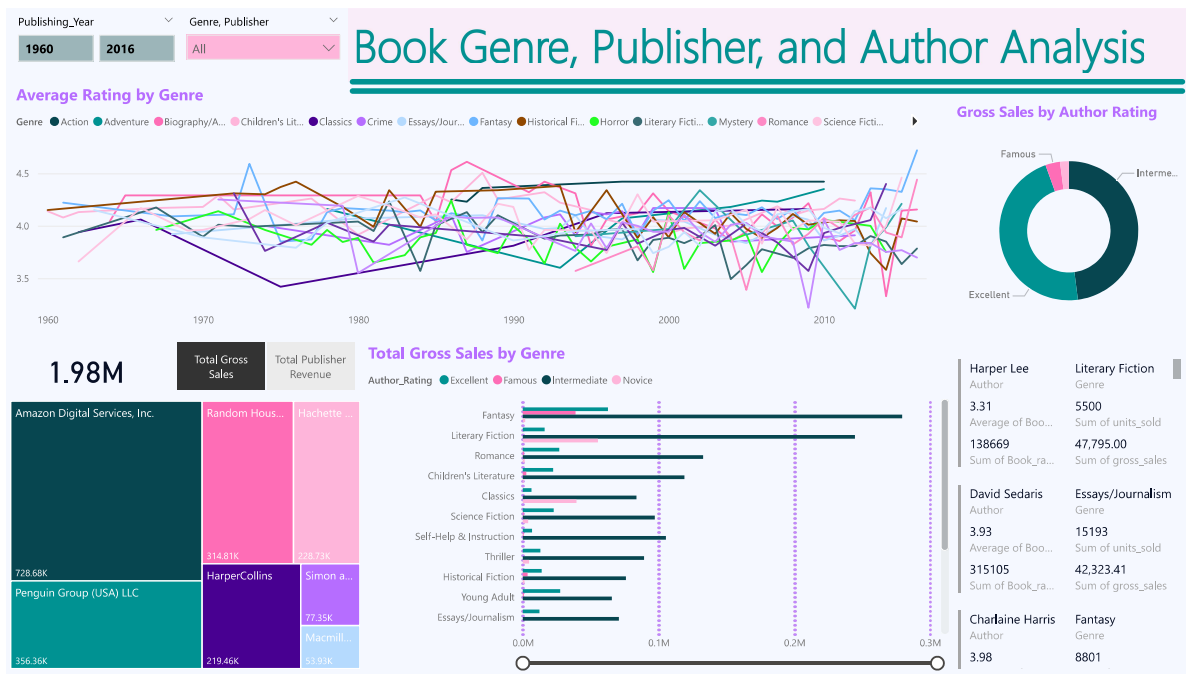

What the dashboard file says about the page in this screenshot:
{"tool":"powerbi","page":{"name":"Page 1","canvas":[1280,720],"ordinal":0},"visuals":[{"type":"treemap","fields":{"Group":["toppublisherKPIs.Publisher"],"Values":["toppublisherKPIs.DynamicSort"]},"box":[0,420,388.6,300],"z":0},{"type":"slicer","fields":{"Values":["SelectedCategory.Sort By"]},"box":[160,354,242,66],"z":1000},{"type":"card","fields":{"Values":["toppublisherKPIs.DynamicSort"]},"box":[0,356.7,173.3,68.3],"z":2000},{"type":"slicer","fields":{"Values":["topgenreKPIs.Genre","toppublisherKPIs.Publisher"]},"box":[185.7,0,187.1,60],"z":3000},{"type":"slicer","fields":{"Values":["topgenresOT.Publishing_Year"]},"box":[0,0,194.3,77.1],"z":4000},{"type":"lineChart","title":"Average Rating by Genre","fields":{"Series":["topgenresOT.Genre"],"Y":["topgenresOT.average_rating"],"Category":["topgenresOT.Publishing_Year"]},"box":[6,80,1000,274],"z":5000},{"type":"donutChart","title":"Gross Sales by Author Rating ","fields":{"Category":["bookstb.Author_Rating"],"Y":["bookstb.units_sold"]},"box":[1026.7,100,253.3,260],"z":6000},{"type":"clusteredBarChart","title":"Total Gross Sales by Genre","fields":{"Y":["bookstb.gross_sales"],"Category":["bookstb.Genre"],"Series":["bookstb.Author_Rating"]},"box":[387.5,360,640,360],"z":7000},{"type":"textbox","box":[372,0,908,78],"z":8000},{"type":"multiRowCard","fields":{"Values":["bookstb.Author","bookstb.Genre","bookstb.Book_average_rating","bookstb.units_sold","bookstb.Book_ratings_count","bookstb.gross_sales"]},"box":[1027.5,375,252.5,345],"z":9000},{"type":"shape","box":[372.5,20,907.5,117.5],"z":10000},{"type":"shape","box":[372.5,30,907.5,117.5],"z":11000}]}

Visuals, with their boxes in screenshot pixels (x1, y1, x2, y2), scaled from the page's 1280x720 canvas onto the 1187x683 screenshot:
treemap - toppublisherKPIs.Publisher x toppublisherKPIs.DynamicSort: {"x1": 0, "y1": 398, "x2": 360, "y2": 682}
slicer - SelectedCategory.Sort By: {"x1": 148, "y1": 336, "x2": 373, "y2": 398}
card - toppublisherKPIs.DynamicSort: {"x1": 0, "y1": 338, "x2": 161, "y2": 403}
slicer - topgenreKPIs.Genre x toppublisherKPIs.Publisher: {"x1": 172, "y1": 0, "x2": 346, "y2": 57}
slicer - topgenresOT.Publishing_Year: {"x1": 0, "y1": 0, "x2": 180, "y2": 73}
"Average Rating by Genre" lineChart: {"x1": 6, "y1": 76, "x2": 933, "y2": 336}
"Gross Sales by Author Rating " donutChart: {"x1": 952, "y1": 95, "x2": 1186, "y2": 342}
"Total Gross Sales by Genre" clusteredBarChart: {"x1": 359, "y1": 342, "x2": 953, "y2": 682}
textbox: {"x1": 345, "y1": 0, "x2": 1186, "y2": 74}
multiRowCard - bookstb.Author x bookstb.Genre: {"x1": 953, "y1": 356, "x2": 1186, "y2": 682}
shape: {"x1": 345, "y1": 19, "x2": 1186, "y2": 130}
shape: {"x1": 345, "y1": 28, "x2": 1186, "y2": 140}
